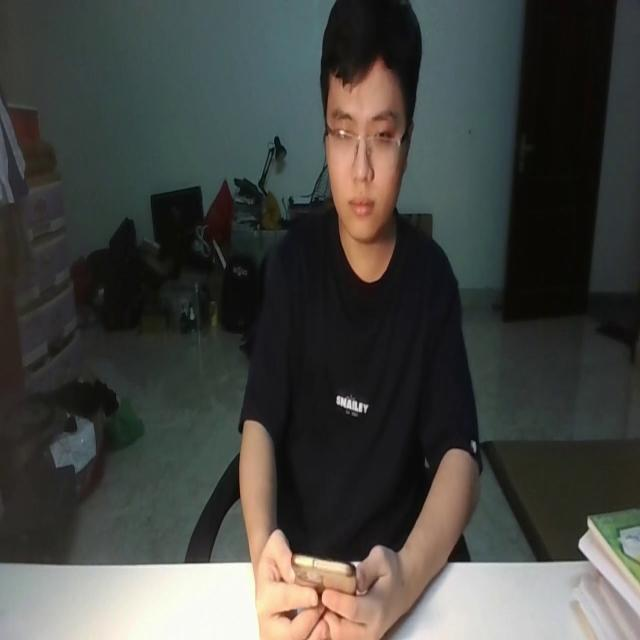phone: (290, 546, 357, 592)
student: (239, 0, 483, 640)
